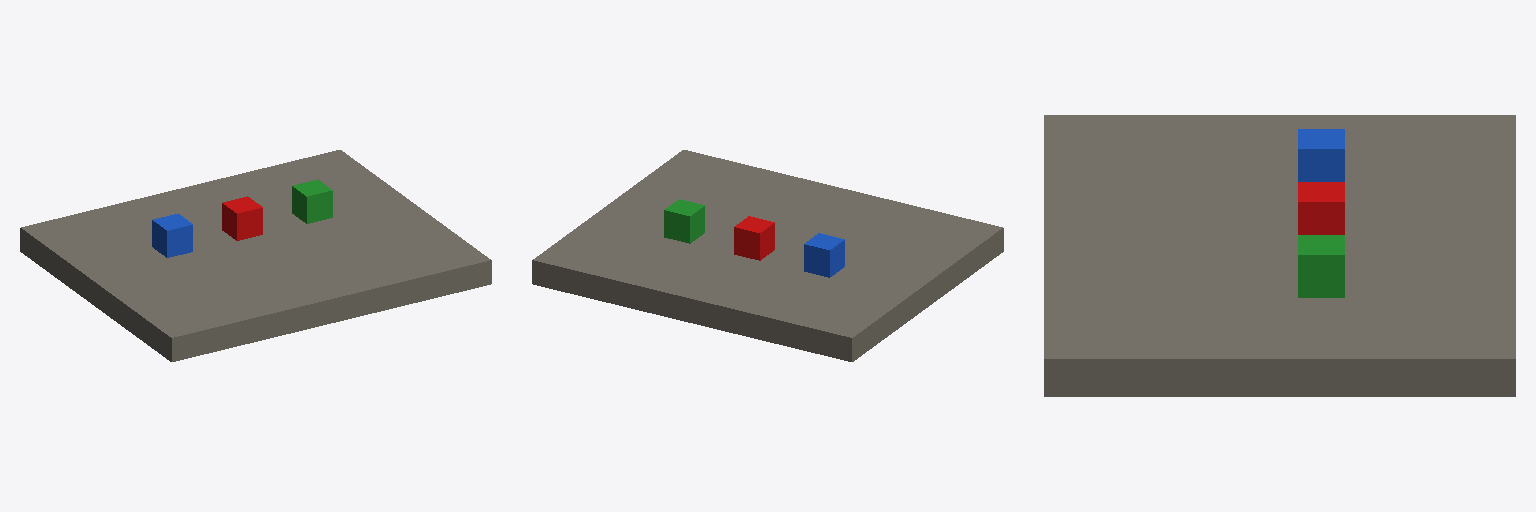
The robot description file, URDF, robot "parttoolgen_hammer_strike_three_cubes":
<?xml version="1.0"?>
<robot name="parttoolgen_hammer_strike_three_cubes">
  <link name="table_with_target_cubes">
    <visual>
      <material name="wood">
        <color rgba="0.52 0.50 0.46 1.0"/>
      </material>
      <origin xyz="0 0 0"/>
      <geometry>
        <box size="0.55 0.45 0.04"/>
      </geometry>
    </visual>
    <collision>
      <origin xyz="0 0 0"/>
      <geometry>
        <box size="0.55 0.45 0.04"/>
      </geometry>
    </collision>

    <visual>
      <material name="target_blue">
        <color rgba="0.18 0.42 0.84 1.0"/>
      </material>
      <origin xyz="-0.12 0.04 0.045"/>
      <geometry>
        <box size="0.045 0.045 0.045"/>
      </geometry>
    </visual>
    <collision>
      <origin xyz="-0.12 0.04 0.045"/>
      <geometry>
        <box size="0.045 0.045 0.045"/>
      </geometry>
    </collision>

    <visual>
      <material name="target_red">
        <color rgba="0.86 0.12 0.12 1.0"/>
      </material>
      <origin xyz="0 0.04 0.045"/>
      <geometry>
        <box size="0.045 0.045 0.045"/>
      </geometry>
    </visual>
    <collision>
      <origin xyz="0 0.04 0.045"/>
      <geometry>
        <box size="0.045 0.045 0.045"/>
      </geometry>
    </collision>

    <visual>
      <material name="target_green">
        <color rgba="0.20 0.64 0.24 1.0"/>
      </material>
      <origin xyz="0.12 0.04 0.045"/>
      <geometry>
        <box size="0.045 0.045 0.045"/>
      </geometry>
    </visual>
    <collision>
      <origin xyz="0.12 0.04 0.045"/>
      <geometry>
        <box size="0.045 0.045 0.045"/>
      </geometry>
    </collision>

    <inertial>
      <mass value="500"/>
      <friction value="1.0"/>
      <inertia ixx="1000.0" ixy="0.0" ixz="0.0" iyy="1000.0" iyz="0.0" izz="1000.0"/>
    </inertial>
  </link>
</robot>

--- What the picture shows (computed from the rendered views, not written in the file) ---
3 views of the same robot in one strip: view 1: azimuth 30°, elevation 25°; view 2: azimuth 150°, elevation 25°; view 3: azimuth 270°, elevation 25° (orthographic).
Model parttoolgen_hammer_strike_three_cubes with 1 links and 0 joints (none), rooted at table_with_target_cubes, posed all joints at 0.
Links seen in each view (by area): view 1: table_with_target_cubes; view 2: table_with_target_cubes; view 3: table_with_target_cubes.
Boxes of the visible links, box(x1,y1,x2,y2) form: table_with_target_cubes: box(20, 150, 491, 361); table_with_target_cubes: box(532, 150, 1003, 361); table_with_target_cubes: box(1044, 115, 1515, 396).
Bounding box of the posed robot: 0.55 × 0.45 × 0.0875 m (x, y, z).
Geometry: primitives only (box / cylinder / sphere), no mesh files.
